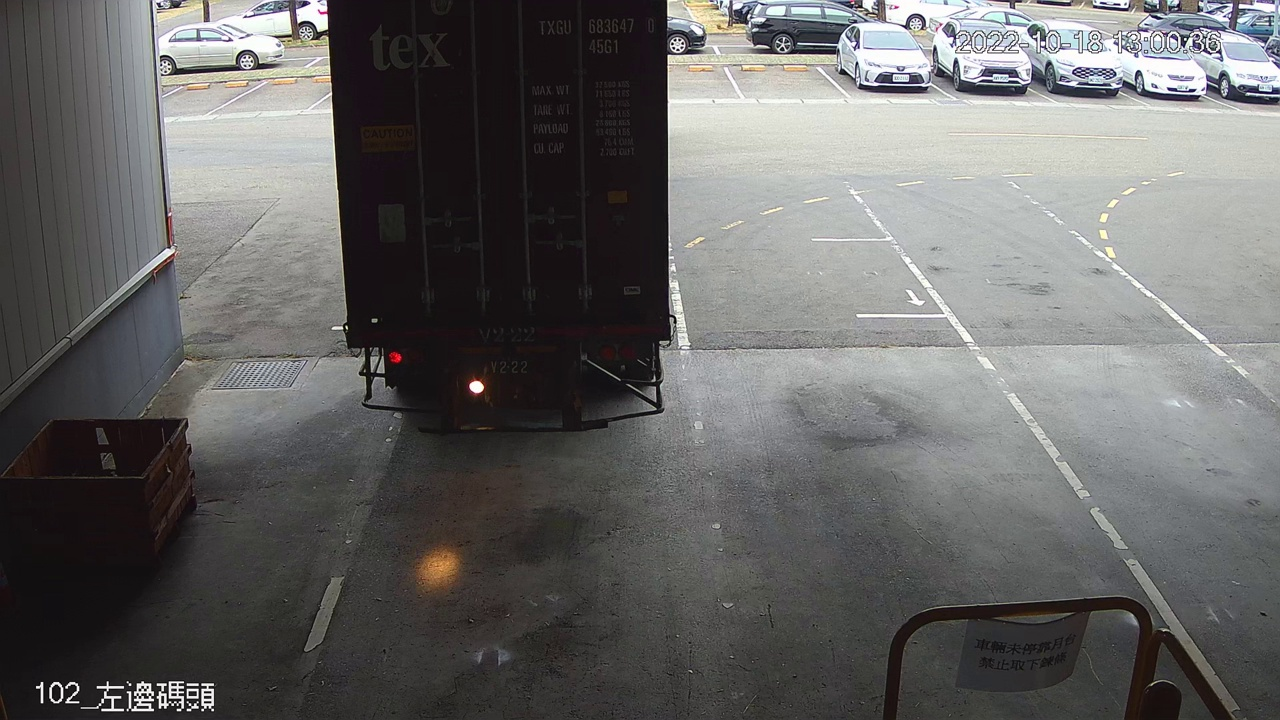container: (531, 8, 661, 62)
